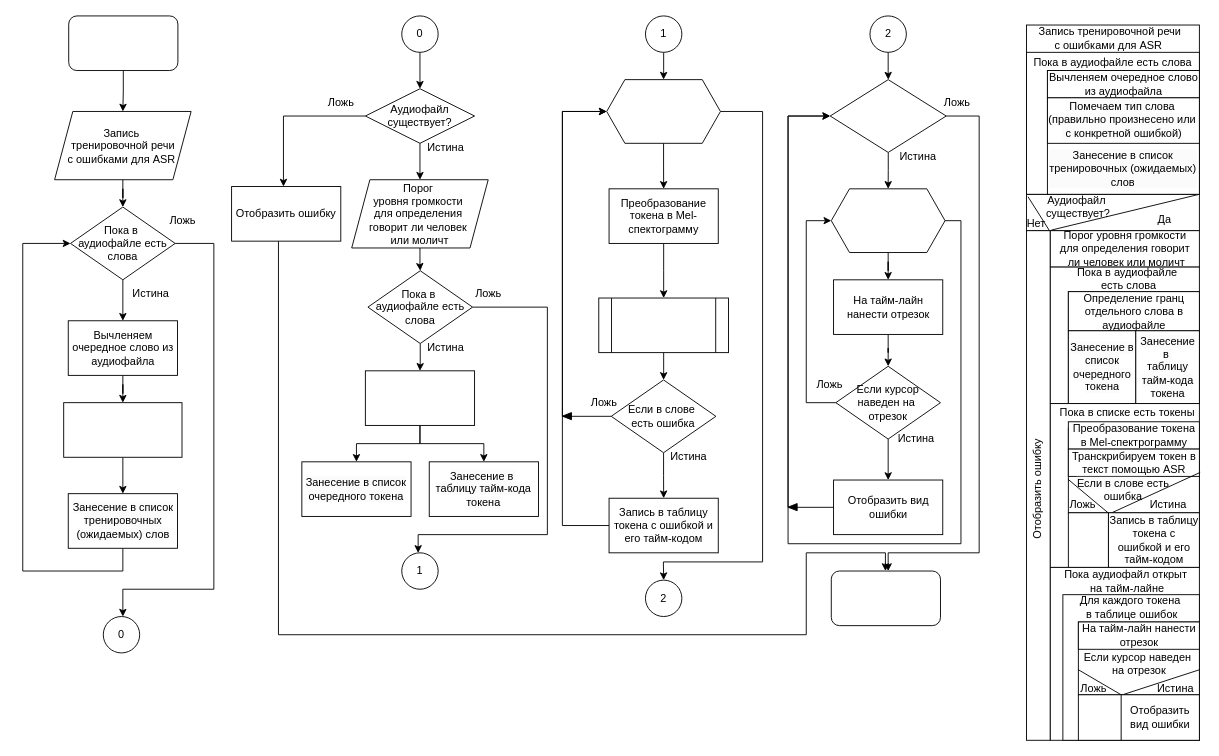
The diagram is 1219 pixels wide and 756 high, and some of its shapes have lost their labels. Each missing label, with the centre of its shape:
"Для кажного токена в списке" goes at pixel 663 111.
"Для кажного токена в таблице ошибок" goes at pixel 887 220.
"Конец" goes at pixel 885 598.
"Начало" goes at pixel 123 43.
"Ничего не делать" goes at pixel 1099 717.
"Определение границ отдельного слова в аудиофайле" goes at pixel 419 397.
"Перехо-дим к следу-ющему" goes at pixel 1087 539.
"Пока аудиофайл отрыт на тайм-лайне" goes at pixel 887 115.
"Помечаем тип слова(правильно произнесено или с конкретной ошибкой)" goes at pixel 122 429.
"Транскрибируем токен в текст помощью ASR с использованием" goes at pixel 663 325.
